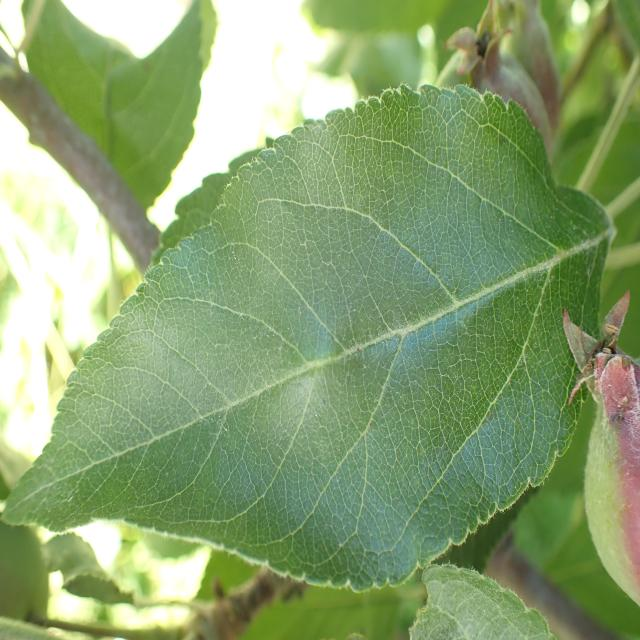healthy: (1, 82, 618, 594), (408, 564, 556, 640)
